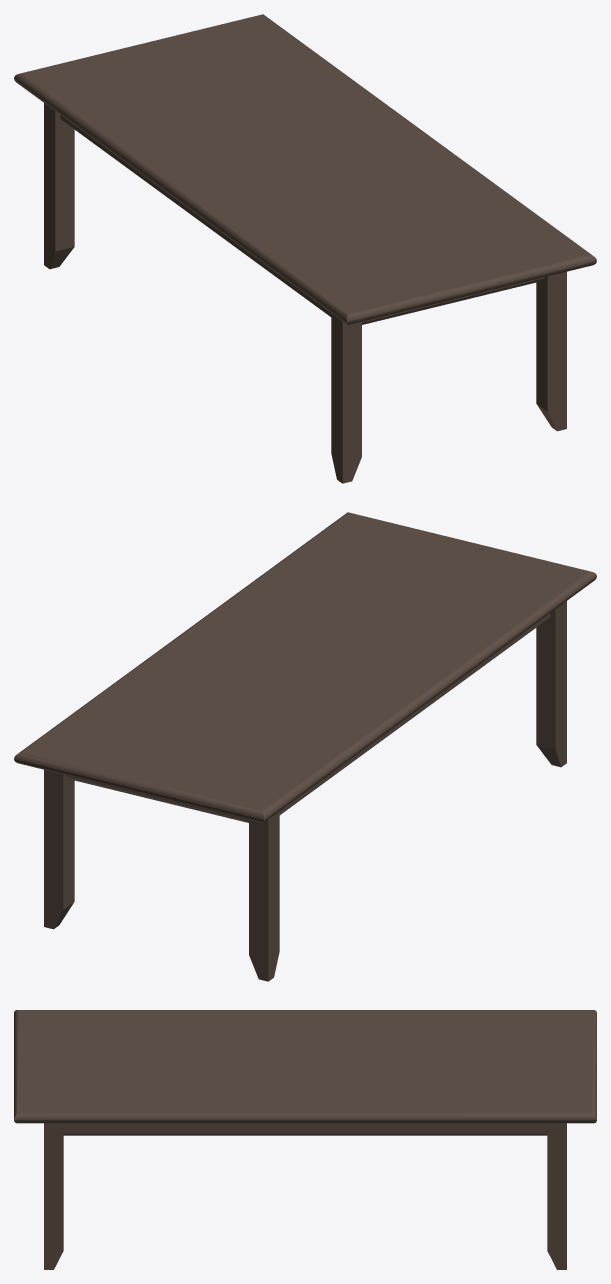
Rendered from GrandeTable_44.fbx.
3 renders of one model, top to bottom at view 1: azimuth 30°, elevation 25°; view 2: azimuth 150°, elevation 25°; view 3: azimuth 270°, elevation 25°, orthographic. The views are drawn at different scales.
Parts seen in each view (by area): view 1: pCube89, pCube90; view 2: pCube89, pCube90; view 3: pCube89, pCube90.
Part boxes in pixels (x1,y1,x2,y2): pCube89: [14, 14, 596, 324]; pCube90: [44, 103, 566, 483]; pCube89: [14, 512, 596, 822]; pCube90: [44, 601, 566, 981]; pCube89: [14, 1010, 596, 1135]; pCube90: [44, 1123, 566, 1269].
Size of the model in its own units: 56.89 by 39.8 by 131.
